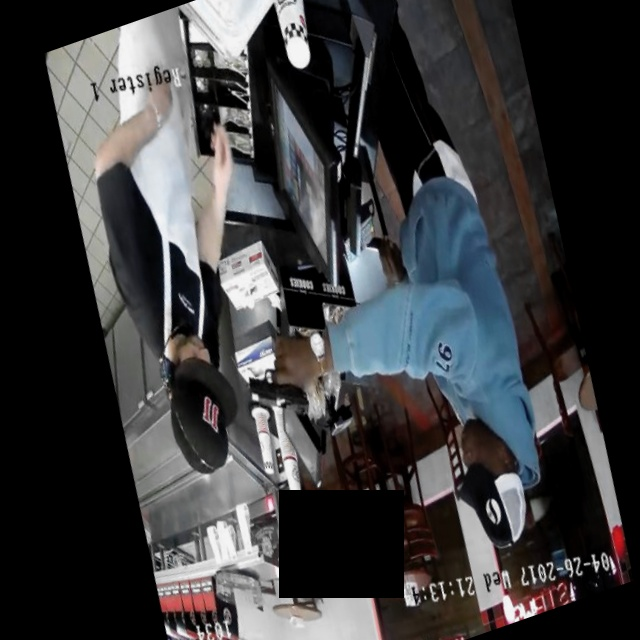gun: (223, 336, 339, 456)
